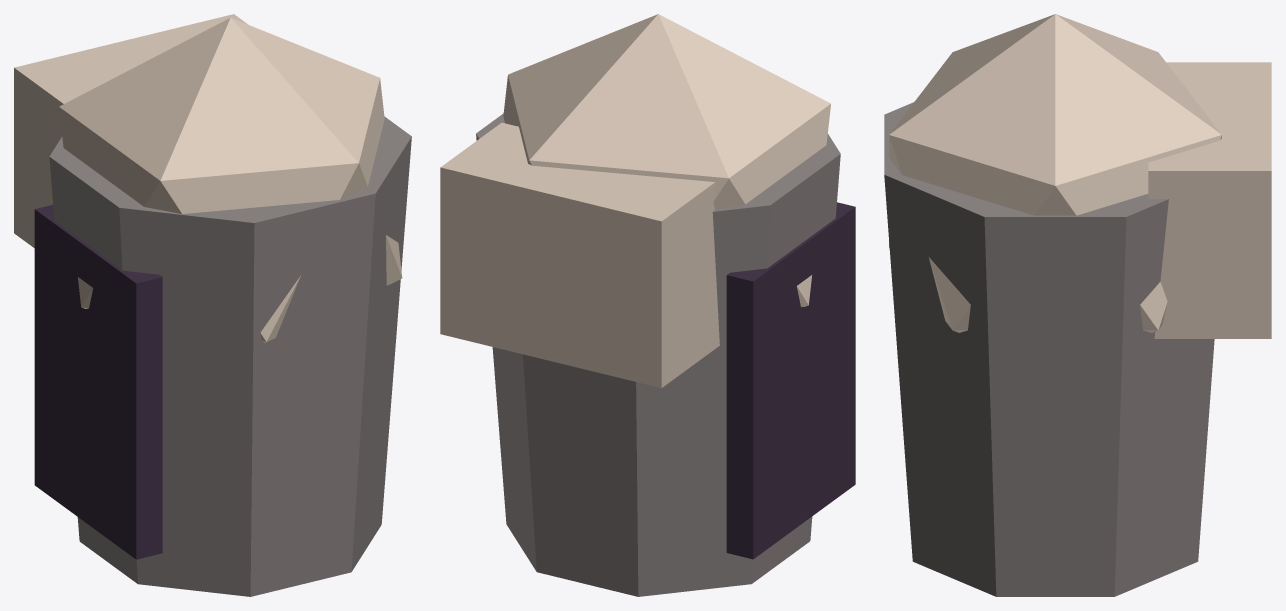
Rendered from inf_possum_lower_arm_l.fbx.
3 renders of one model, left to right at view 1: azimuth 30°, elevation 25°; view 2: azimuth 150°, elevation 25°; view 3: azimuth 270°, elevation 25°, orthographic.
Visible parts, largest first — view 1: inf_possum_lower_arm_l; view 2: inf_possum_lower_arm_l; view 3: inf_possum_lower_arm_l.
Boxes of the visible parts, x1,y1,x2,y2 form: inf_possum_lower_arm_l: [14, 14, 411, 596]; inf_possum_lower_arm_l: [440, 14, 855, 596]; inf_possum_lower_arm_l: [884, 14, 1271, 596].
Bounding box in the file's own units: 67.98 × 112 × 75.26.
